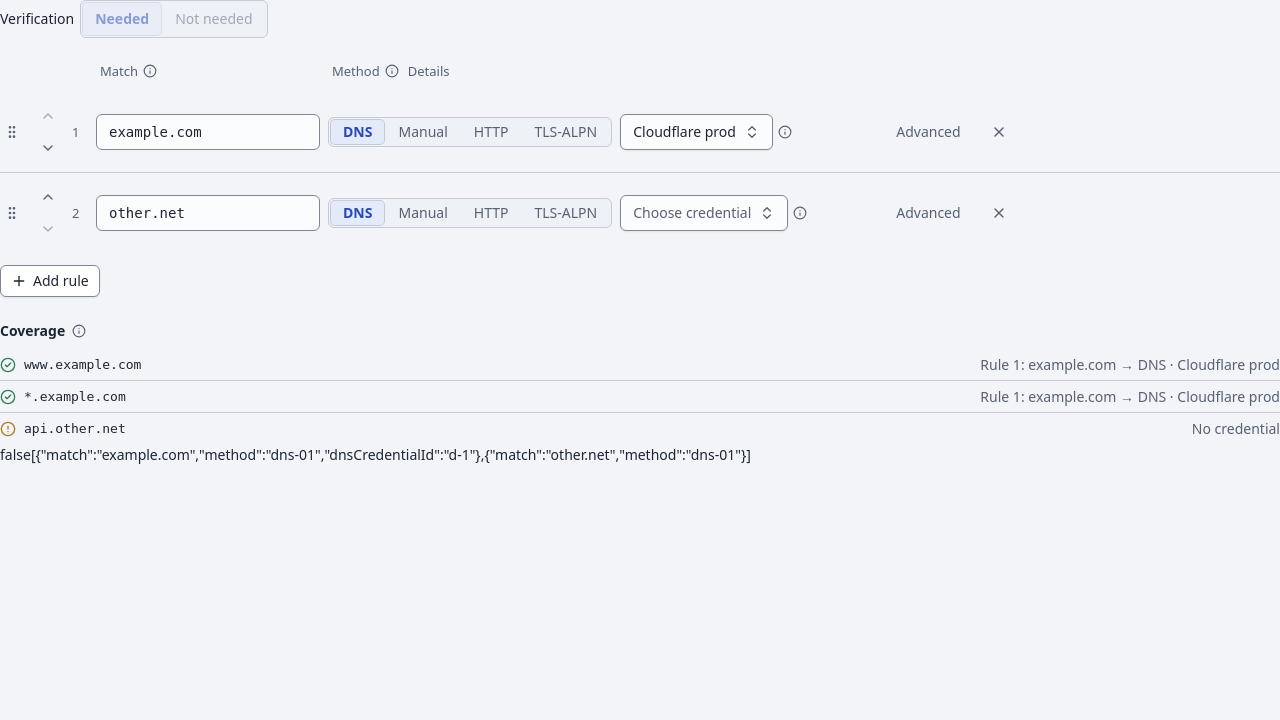
it: coverage shows the method: DNS · credential, then HTTP · client once switched
Check: the field named "Rule 1 match" holds "example.com", box [96,114,320,150]
Check: the list item "www.example.com Rule 1: example.com → DNS · Cloudflare prod" is shown, box [0,349,1279,381]
Click the 2nd radio button labelled "HTTP": point(491, 213) [462,201,520,225]
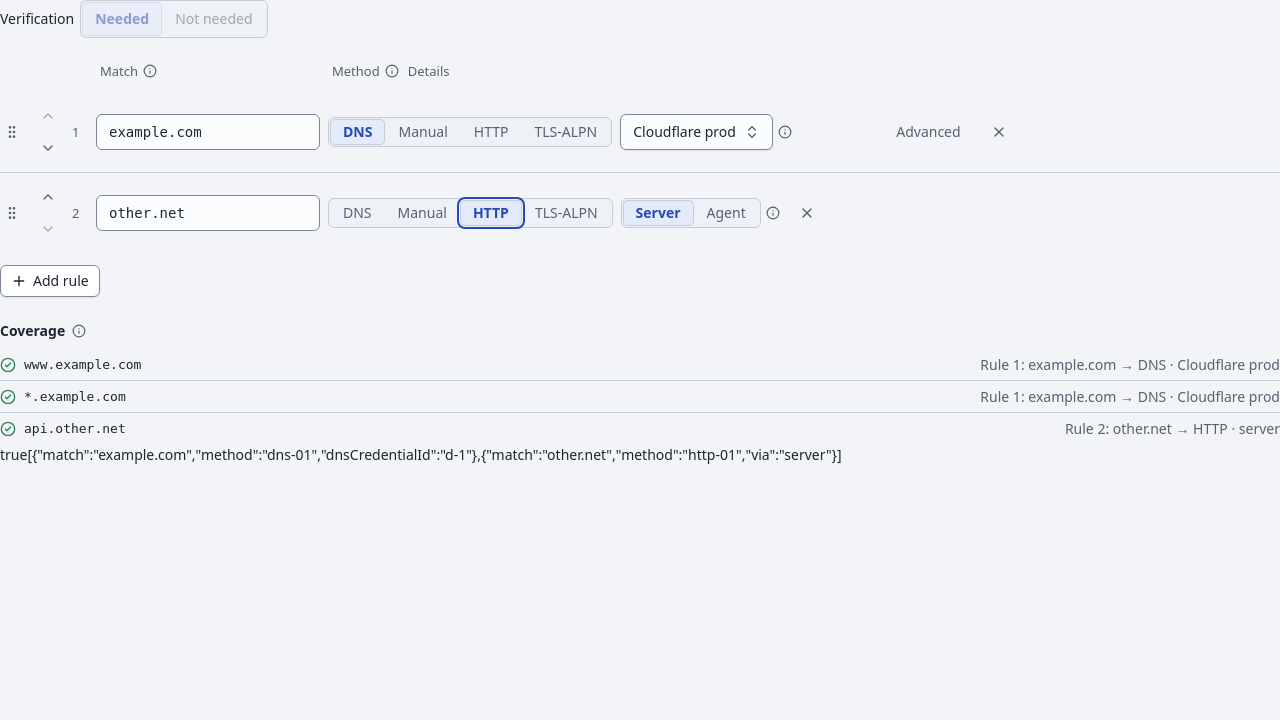
Click the radio button labelled "Agent": point(726, 213) [694,201,758,225]
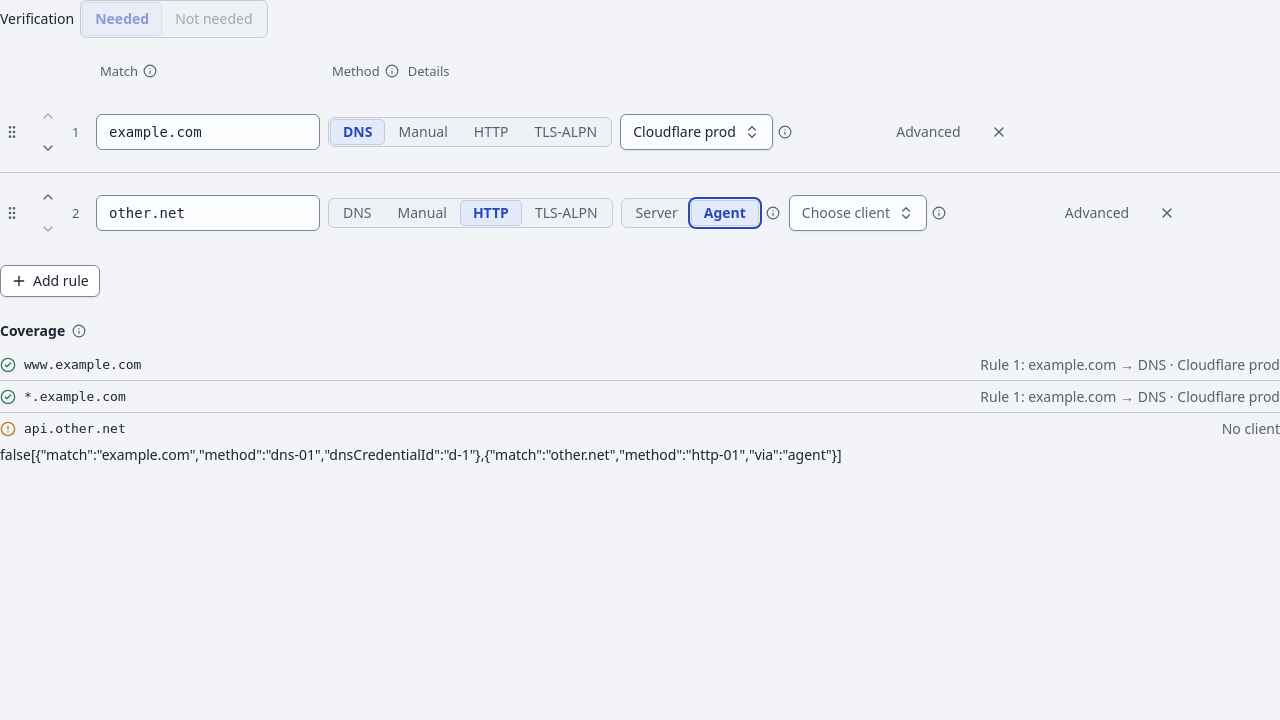
Click the dropdown named "Rule 2 client": point(858, 213) [789,195,927,231]
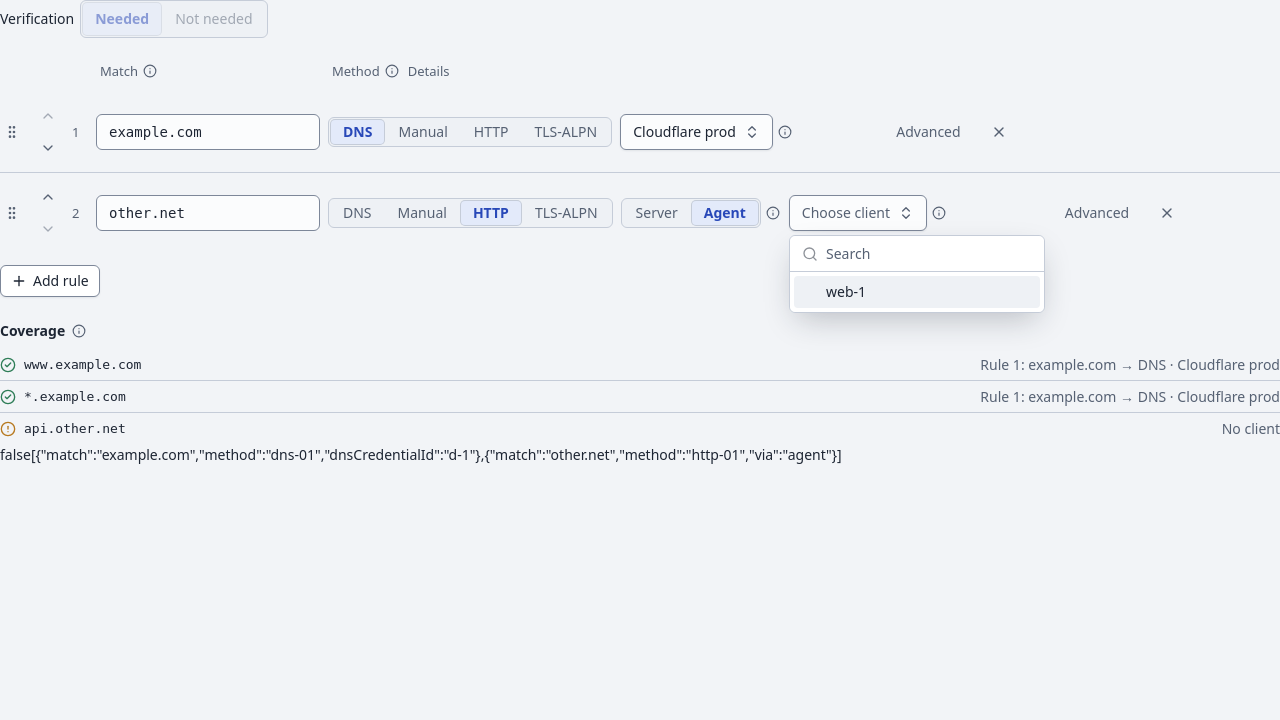
Click the option "web-1": point(917, 292) [794,276,1040,308]
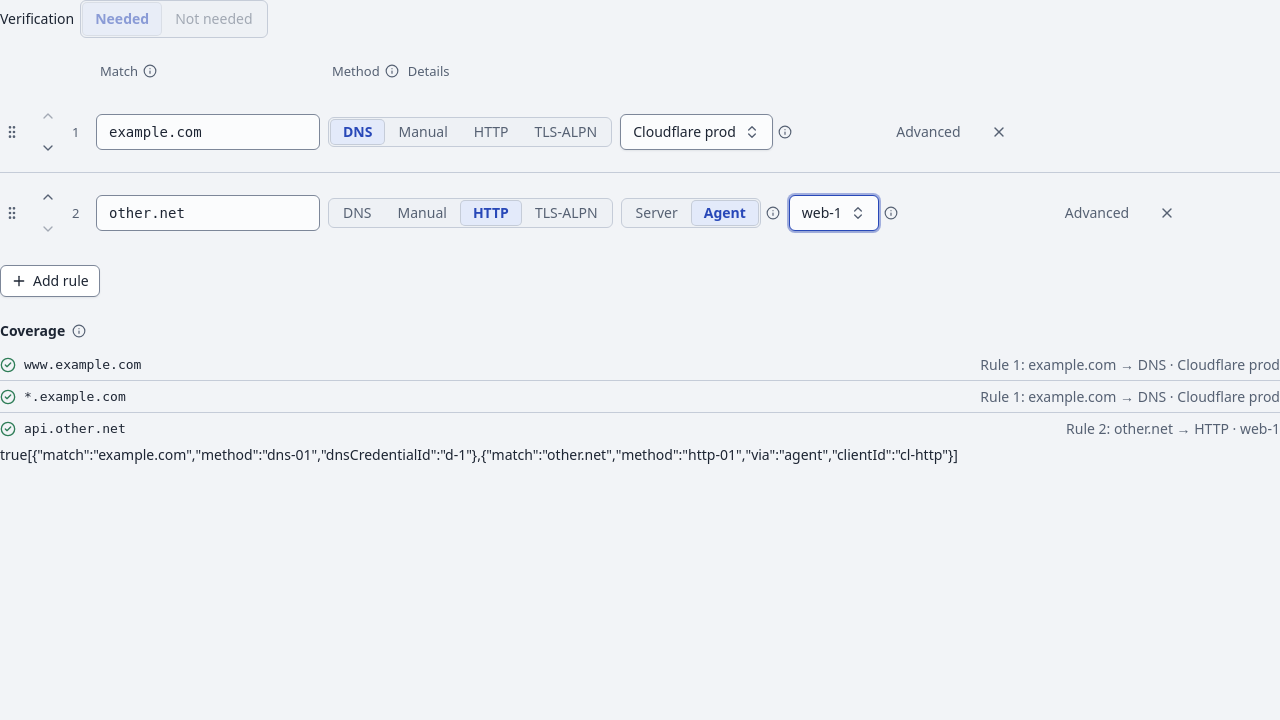
Check: the list item "api.other.net Rule 2: other.net → HTTP · web-1" is shown, box [0,419,1279,438]
